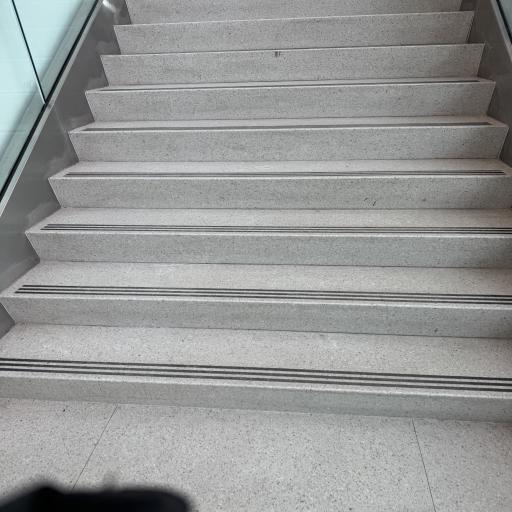Stairs: (0, 0, 512, 421), (27, 208, 512, 268)
